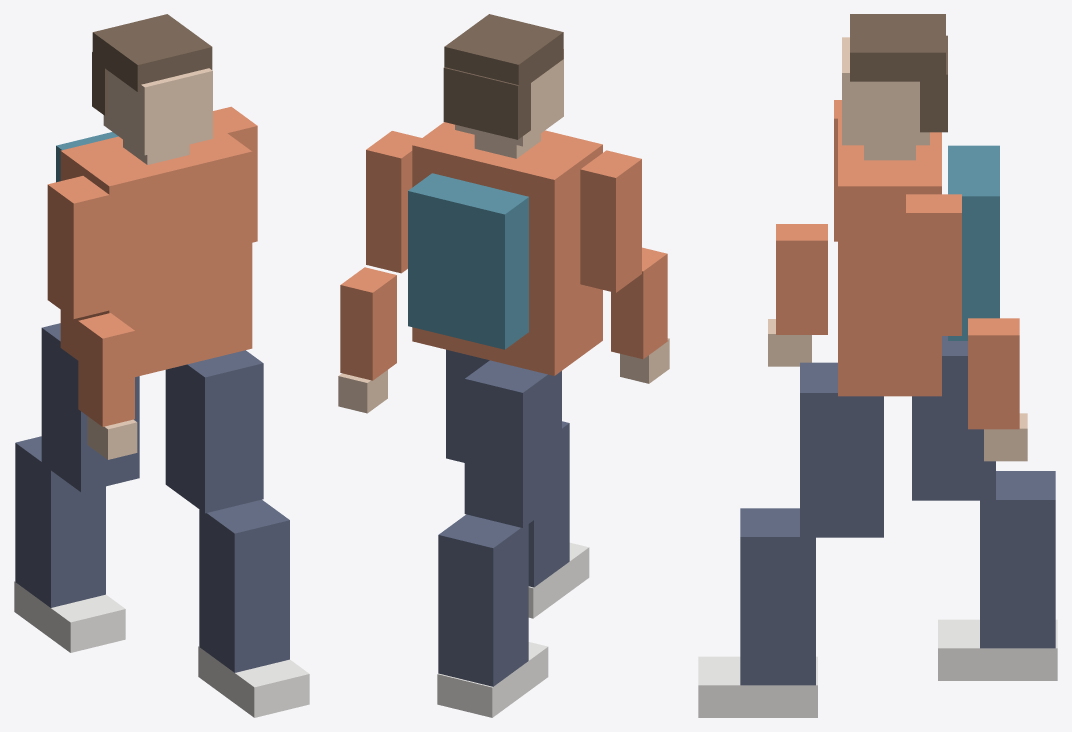
Rendered from walker-1.glb.
The picture shows the model from 3 angles, left to right: view 1: azimuth 30°, elevation 25°; view 2: azimuth 150°, elevation 25°; view 3: azimuth 270°, elevation 25°; orthographic projection. The views are drawn at different scales.
Bounding box in the file's own units: 0.67 × 1.8 × 0.9.
